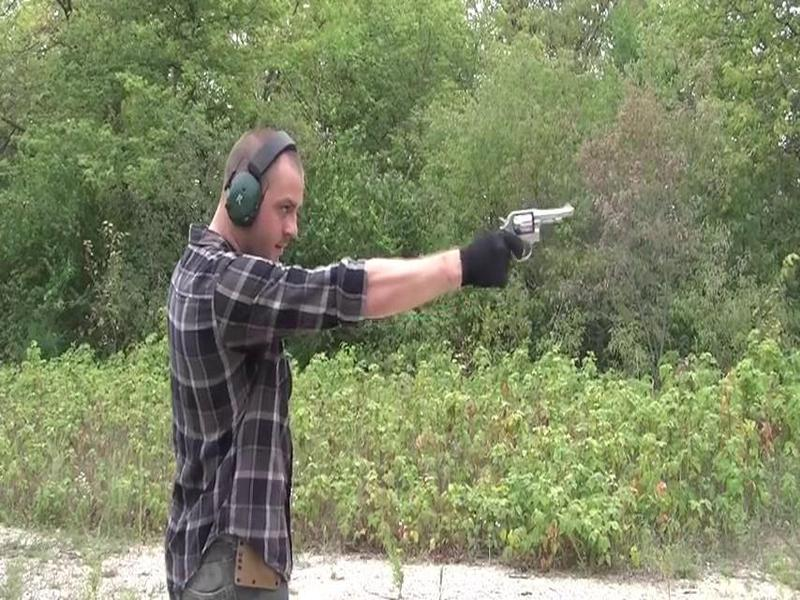Revolver: (480, 198, 590, 268)
